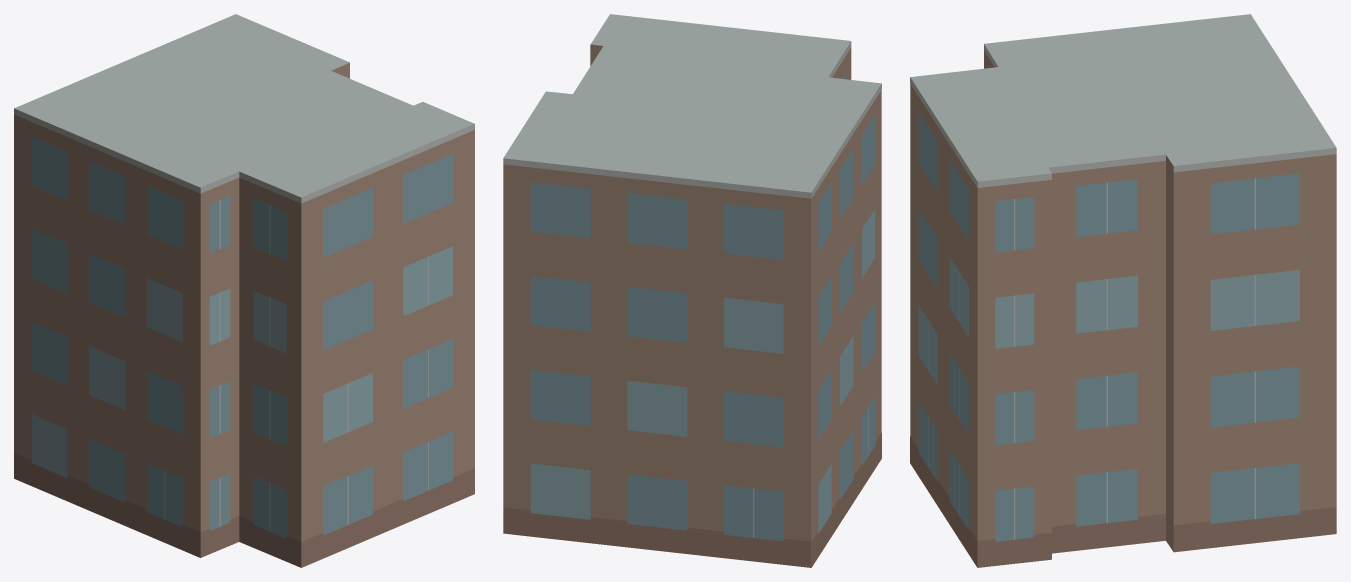
File: survey-upis-32703285.glb
The picture shows the model from 3 angles, left to right: view 1: azimuth 30°, elevation 25°; view 2: azimuth 150°, elevation 25°; view 3: azimuth 270°, elevation 25°; orthographic projection. The views are drawn at different scales.
Parts seen in each view (by area): view 1: survey-upis-32703285.tmp; view 2: survey-upis-32703285.tmp; view 3: survey-upis-32703285.tmp.
Boxes of the visible parts, x1,y1,x2,y2 form: survey-upis-32703285.tmp: (14,14,474,567); survey-upis-32703285.tmp: (503,14,881,567); survey-upis-32703285.tmp: (910,14,1336,567).
Size of the model in its own units: 14.08 by 15.1 by 15.13.
